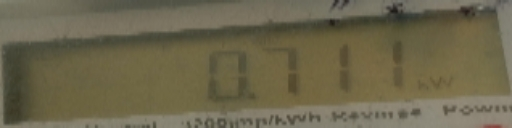0: (203, 47, 249, 104)
1: (322, 41, 368, 98), (377, 34, 423, 91)
7: (264, 43, 310, 100)
d: (247, 86, 271, 104)
